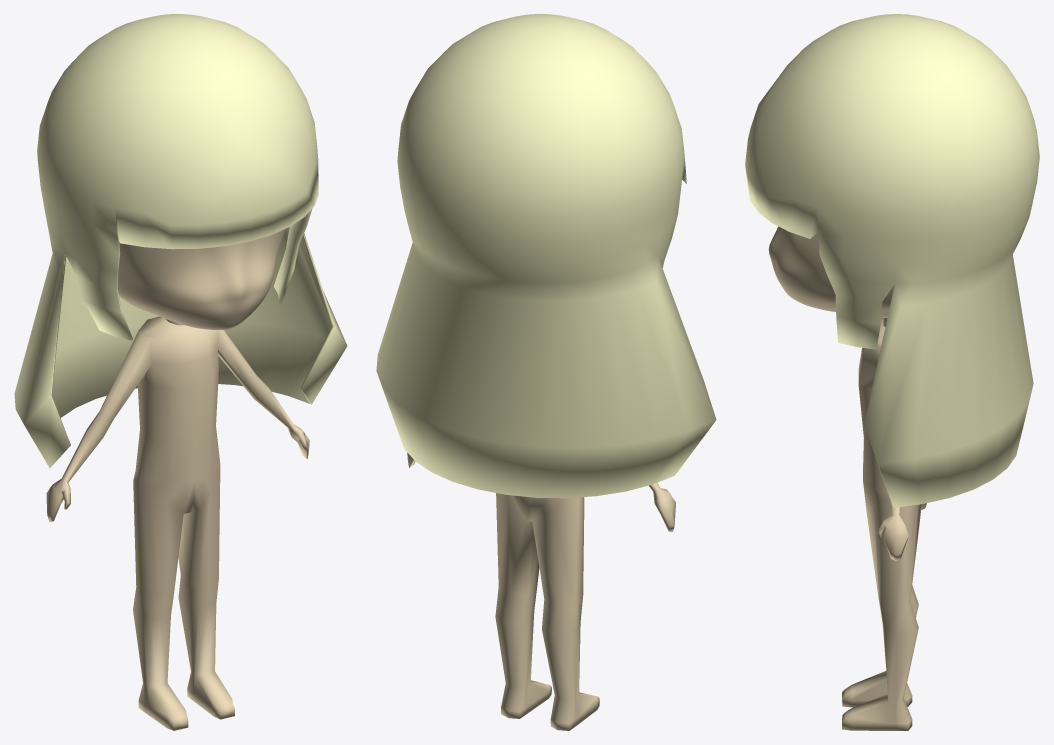
The model's file is AvatarClubs.fbx.
3 renders of one model, left to right at view 1: azimuth 30°, elevation 25°; view 2: azimuth 150°, elevation 25°; view 3: azimuth 270°, elevation 25°, orthographic. The views are drawn at different scales.
Visible parts, largest first — view 1: Sphere.004, Cube.002, Sphere.005; view 2: Sphere.004, Cube.002; view 3: Sphere.004, Cube.002, Sphere.005.
Part boxes in pixels (left/top/right/bottom): Sphere.004: left=14, top=14, right=347, bottom=468; Cube.002: left=46, top=316, right=309, bottom=730; Sphere.005: left=118, top=228, right=286, bottom=329; Sphere.004: left=376, top=14, right=716, bottom=498; Cube.002: left=407, top=452, right=675, bottom=730; Sphere.004: left=745, top=14, right=1039, bottom=507; Cube.002: left=842, top=317, right=926, bottom=730; Sphere.005: left=768, top=226, right=894, bottom=317.
Size of the model in its own units: 394 by 788 by 306.
